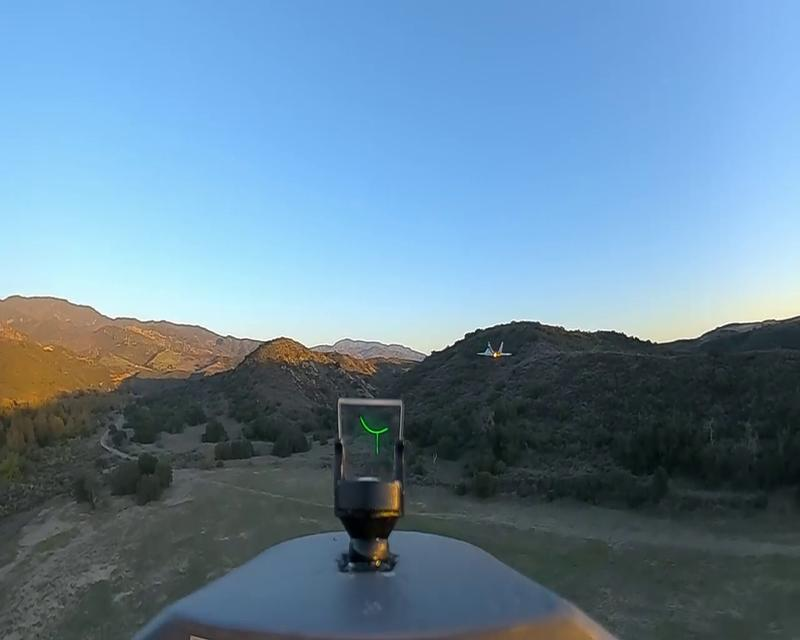UAV: (478, 339, 512, 358)
